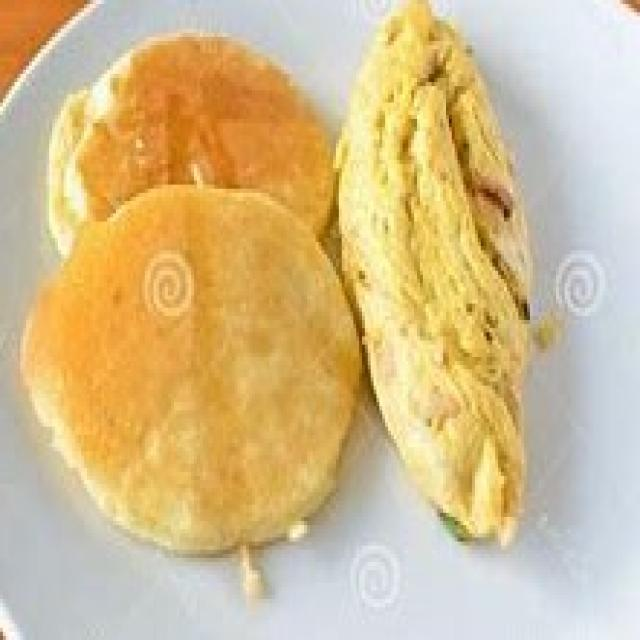Omelette: (342, 4, 547, 554)
Pancakes: (23, 17, 348, 570)
